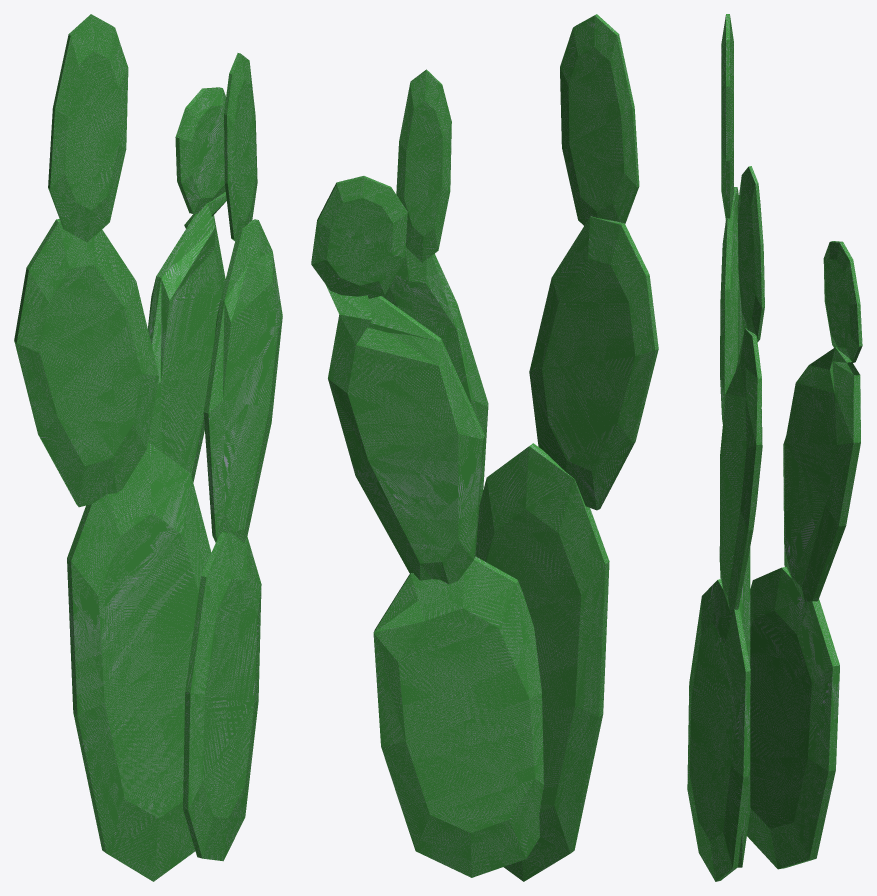
File: Cactus_14.fbx
3 renders of one model, left to right at view 1: azimuth 30°, elevation 25°; view 2: azimuth 150°, elevation 25°; view 3: azimuth 270°, elevation 25°, orthographic. The views are drawn at different scales.
Visible parts, largest first — view 1: Model; view 2: Model; view 3: Model.
Part boxes in pixels (box(x1,y1,x2,y2)): Model: box(14, 14, 282, 881); Model: box(311, 14, 658, 881); Model: box(687, 14, 862, 881).
Bounding box in the file's own units: 196 × 581 × 112.
